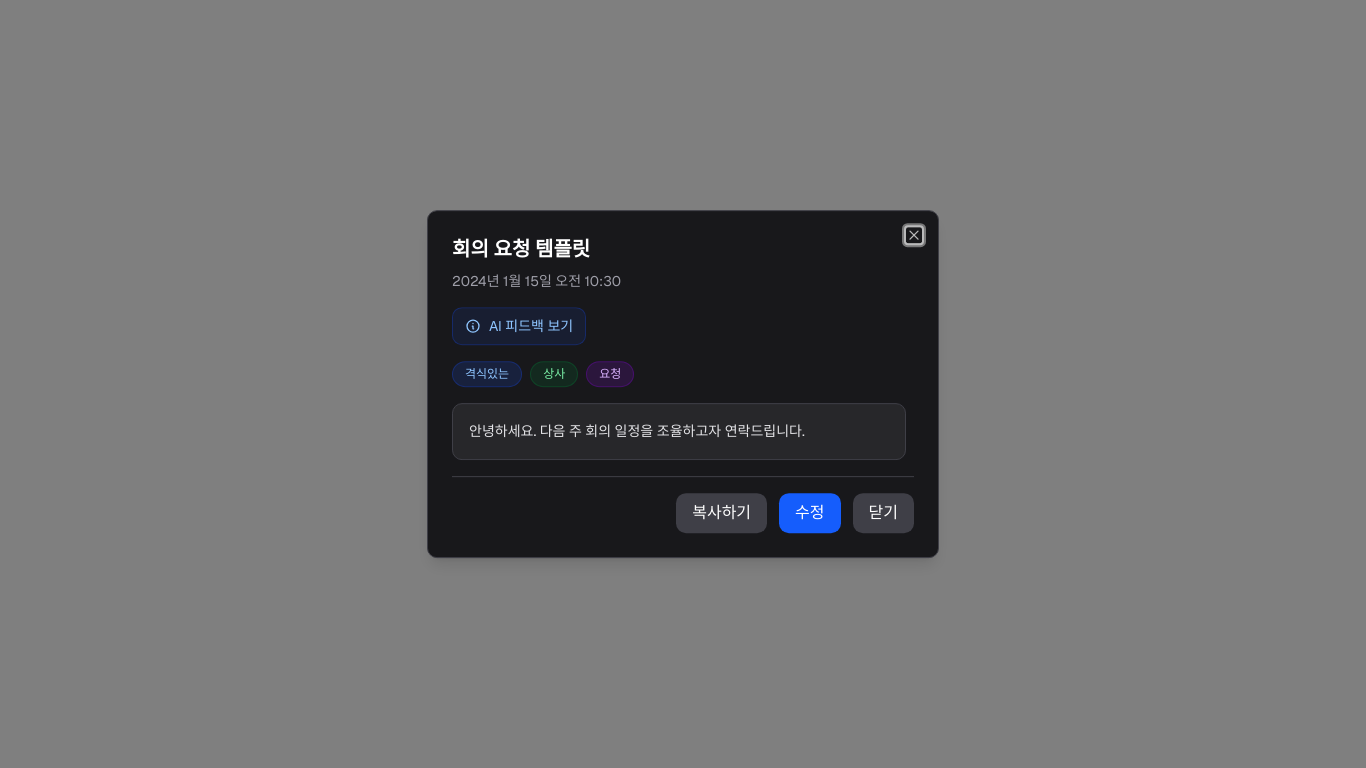
TemplateDetailModal › AI 피드백 › "AI 피드백 보기" 클릭 시 피드백 내용을 표시한다
expect the text "AI 피드백 보기" is shown: met, box [489,316,573,336]
Click the button "AI 피드백 보기" at (519, 326), box [452,307,586,345]
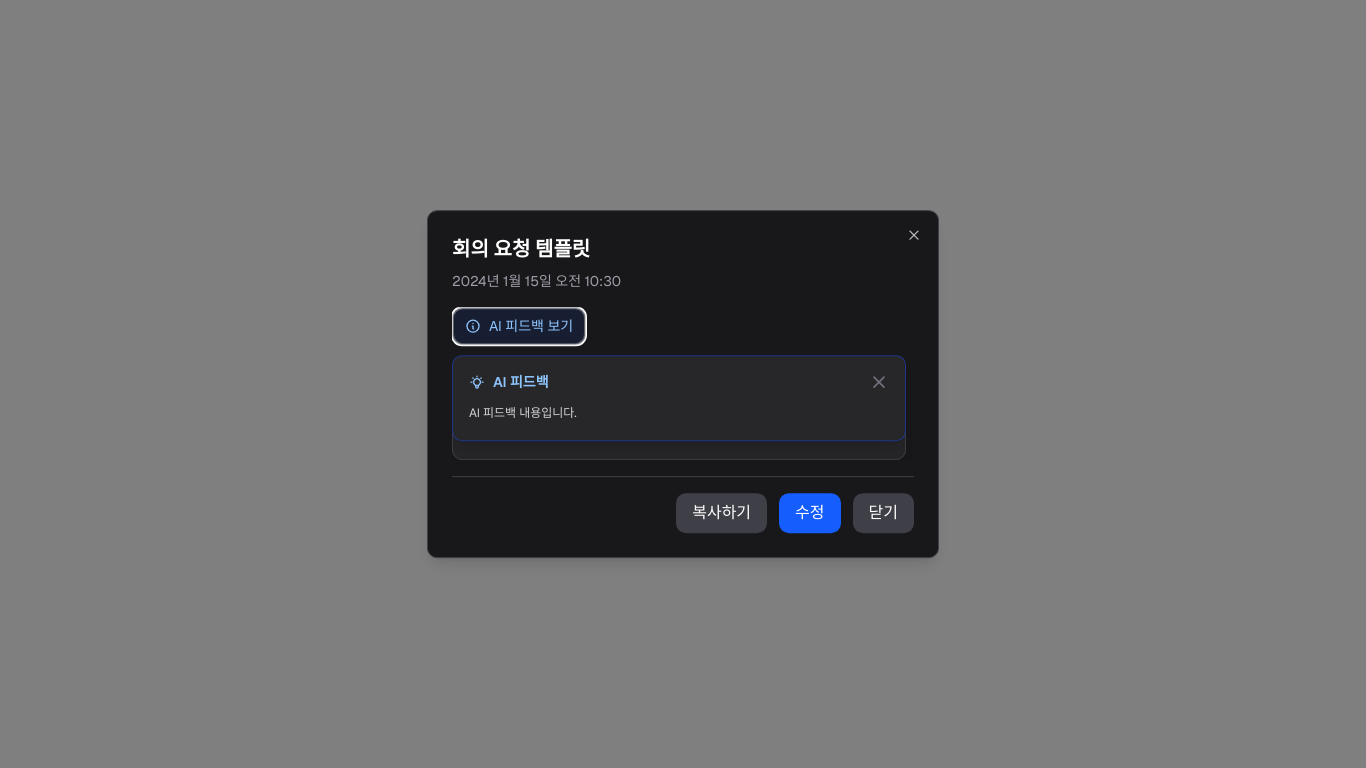
expect the text "AI 피드백 내용입니다." is shown: met, box [469,405,577,421]
